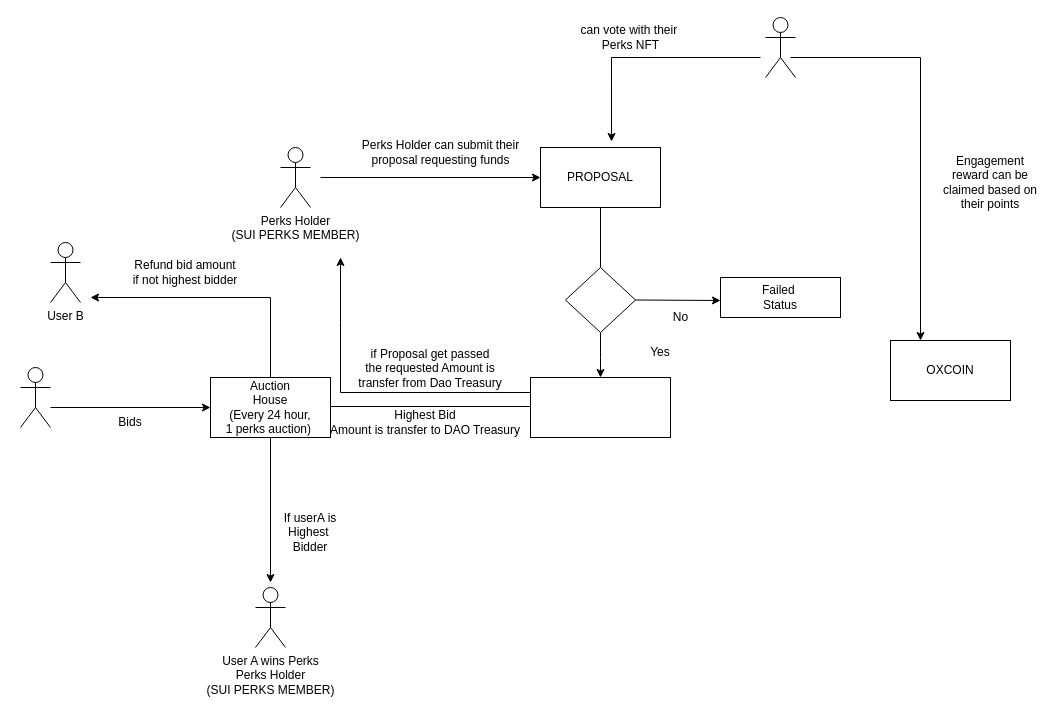
Some shapes in this 1058 by 715 pixel diagram are drawn without their labels. Here are the shapes that lost their labels. From the top down, the centre of each, then its label:
At point (780, 47): "Various PERKS Member".
At point (600, 299): "Passes".
At point (35, 397): "User A".
At point (600, 407): "DAO Treasury".
